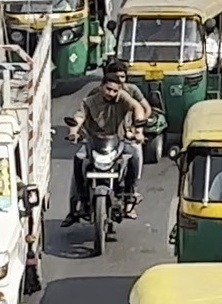BikeWithRider: (59, 59, 159, 258)
NoHelmet: (98, 73, 124, 104), (105, 62, 130, 91)
